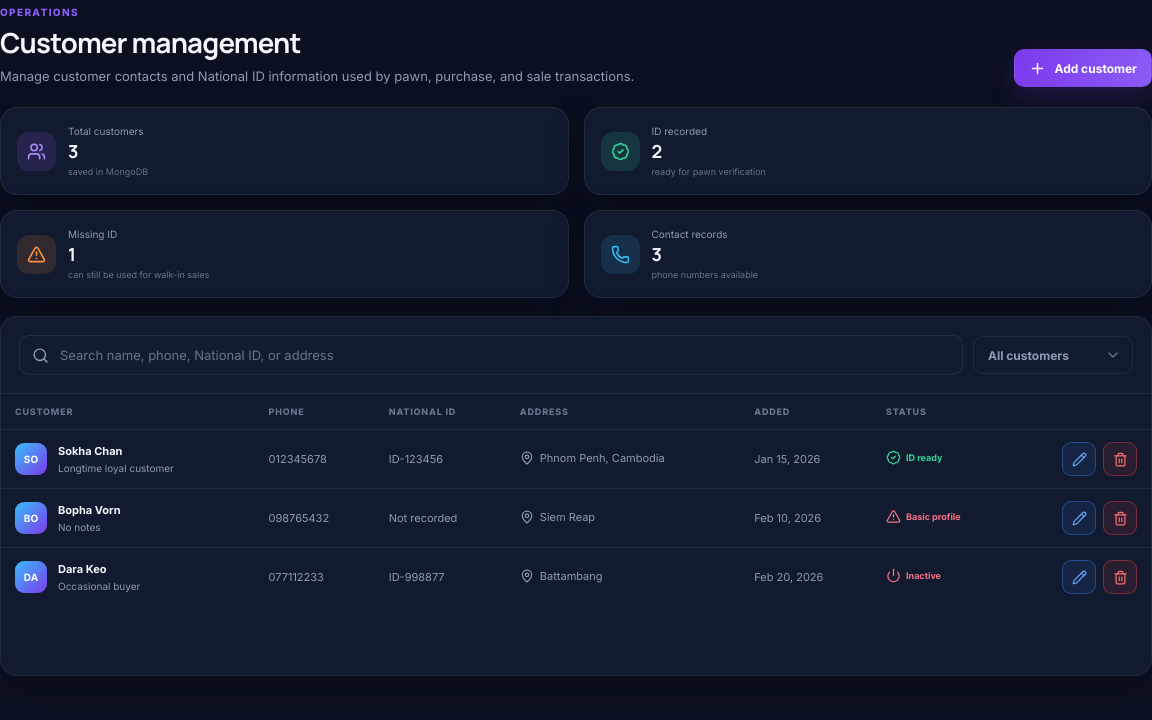
Test case: CustomerPage Regression & Workflow Tests › 8. Customer deletion: cancellation performs no deletion
Expected: the text "Bopha Vorn" is shown, [58,503,120,517]
Note: Click delete icon for Bopha Vorn
Click the button named "Delete Bopha Vorn".
click(1120, 518)  # box [1103,501,1137,535]
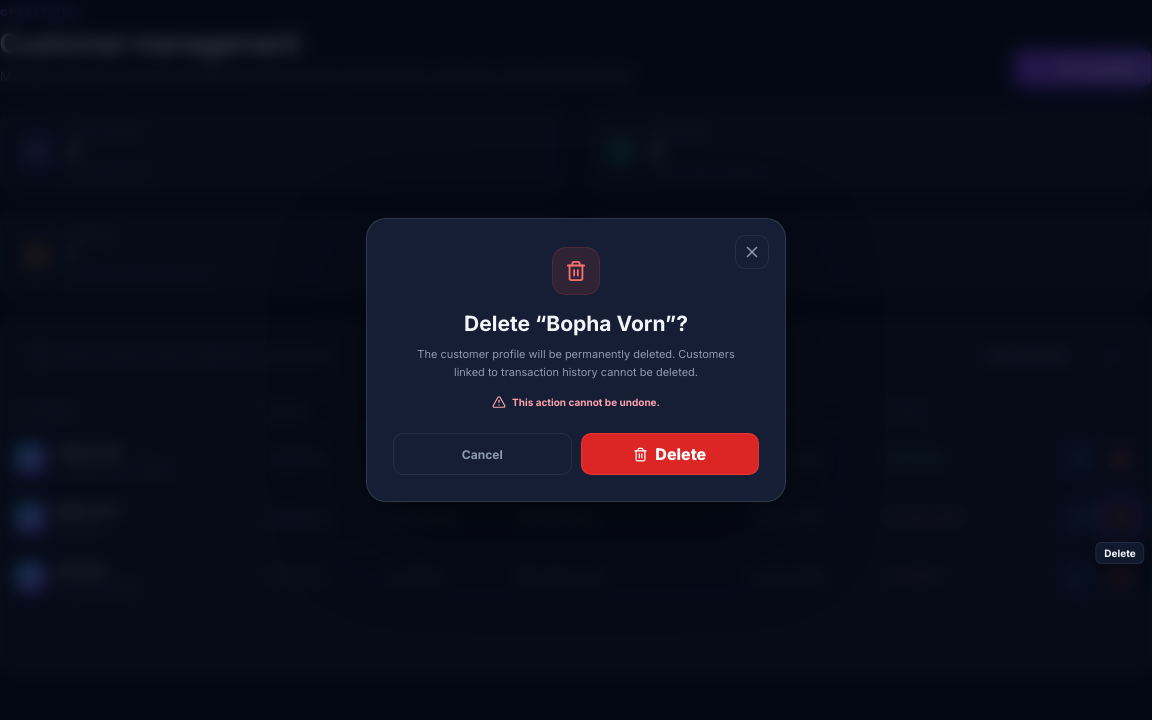
Now the dialog is shown, box [366,218,786,502]
Note: Click Cancel
Click the button "Cancel".
click(482, 454)  # box [393,433,572,475]
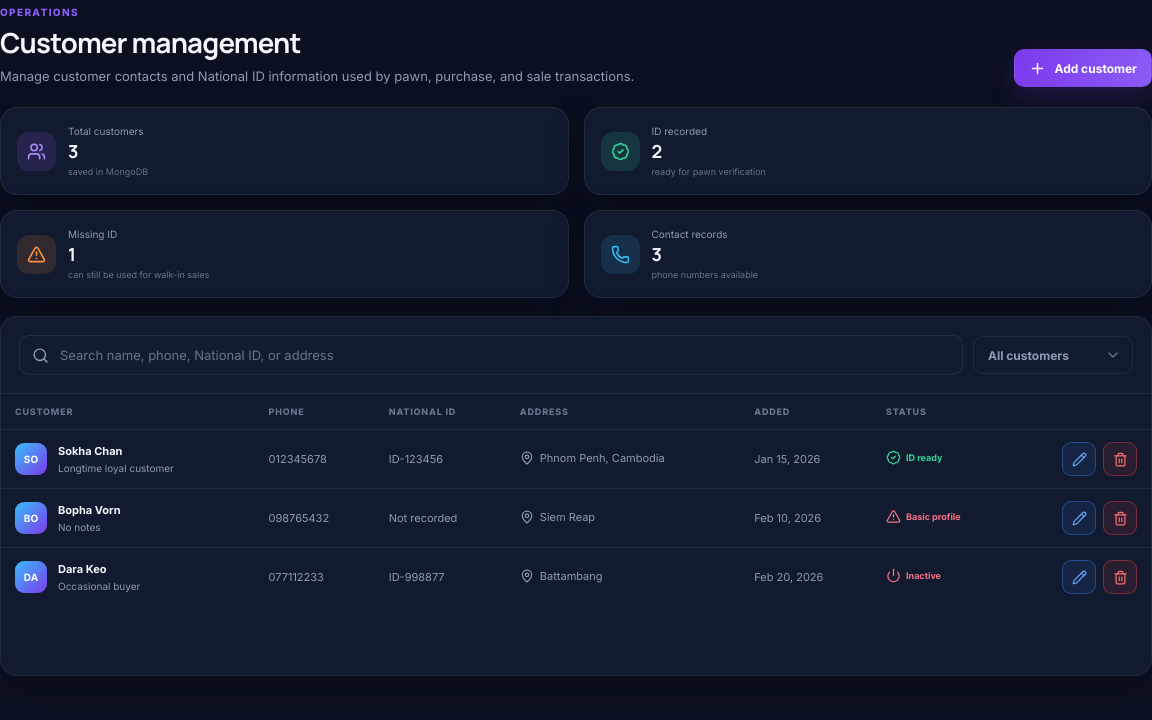
Expected: the text "Bopha Vorn" is shown, [58,503,120,517]
Now the dialog is gone
